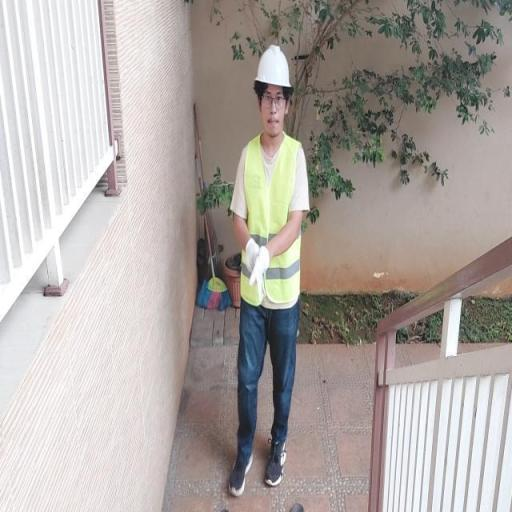Person: (164, 21, 377, 502)
gloves: (244, 242, 274, 300), (244, 232, 271, 280)
helmet: (240, 38, 324, 100)
vest: (229, 132, 324, 316)
